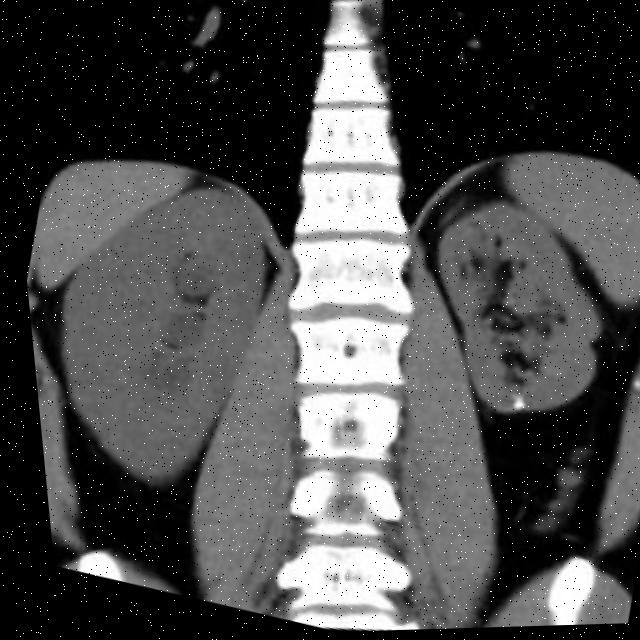Tas_Var: (502, 399, 524, 417)
